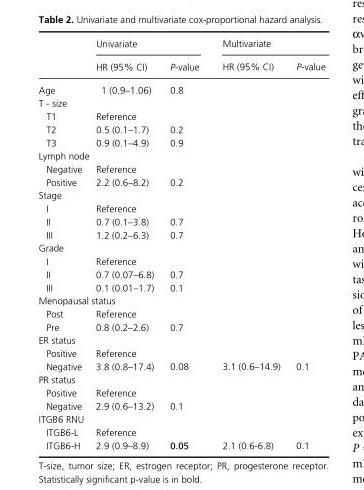table: (37, 37, 324, 450)
table column: (210, 37, 287, 450), (88, 37, 161, 450), (37, 37, 88, 450), (161, 37, 210, 450), (287, 37, 324, 450)
table column header: (37, 37, 324, 77)
table projected row header: (37, 240, 324, 254), (37, 96, 324, 109), (37, 148, 324, 161), (37, 188, 324, 201), (37, 293, 324, 306), (37, 333, 324, 346), (37, 372, 324, 385), (37, 412, 324, 425)
table row: (37, 54, 324, 77), (37, 77, 324, 96), (37, 37, 324, 54), (37, 161, 324, 175), (37, 240, 324, 254), (37, 306, 324, 320), (37, 385, 324, 399), (37, 96, 324, 109), (37, 109, 324, 122), (37, 122, 324, 135), (37, 135, 324, 148), (37, 148, 324, 161), (37, 175, 324, 188), (37, 188, 324, 201), (37, 201, 324, 214), (37, 214, 324, 227), (37, 227, 324, 240), (37, 254, 324, 267), (37, 267, 324, 280), (37, 280, 324, 293), (37, 293, 324, 306), (37, 320, 324, 333), (37, 333, 324, 346), (37, 346, 324, 359), (37, 359, 324, 372), (37, 372, 324, 385), (37, 399, 324, 412), (37, 412, 324, 425), (37, 425, 324, 438), (37, 438, 324, 450)
table spanning cell: (88, 37, 210, 54), (210, 37, 324, 54)
